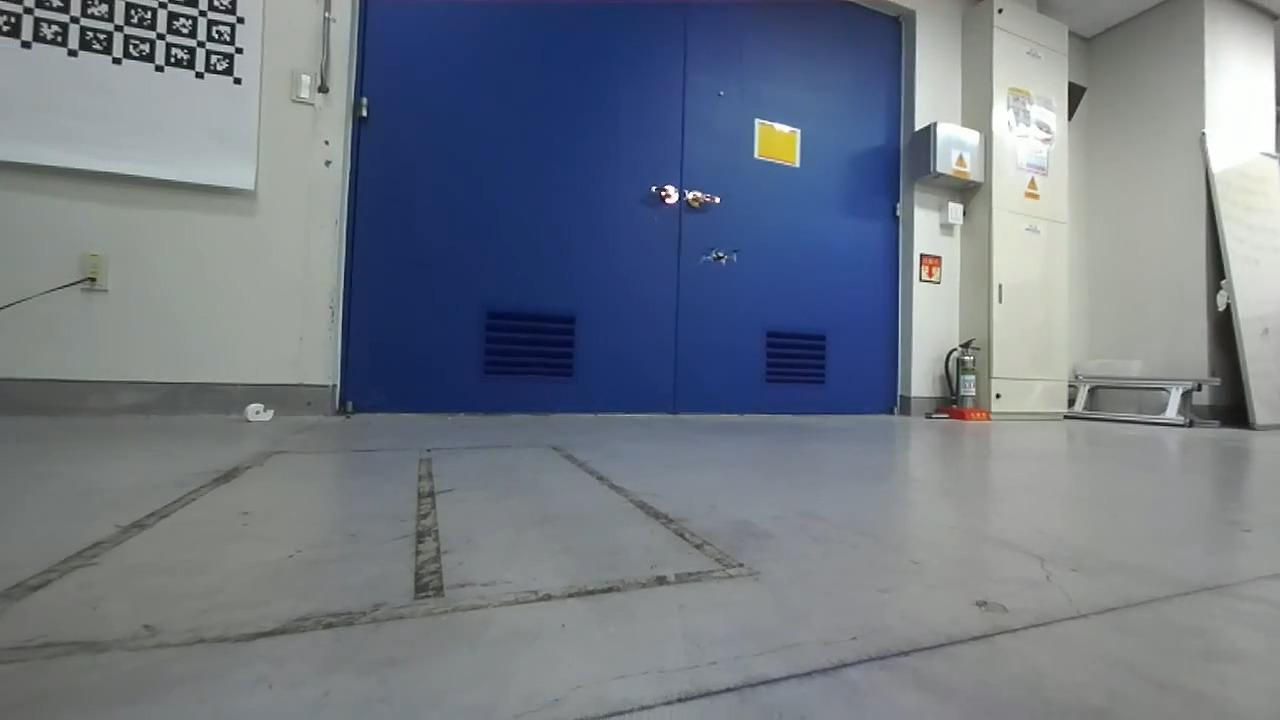crazyflie: (691, 240, 746, 270)
